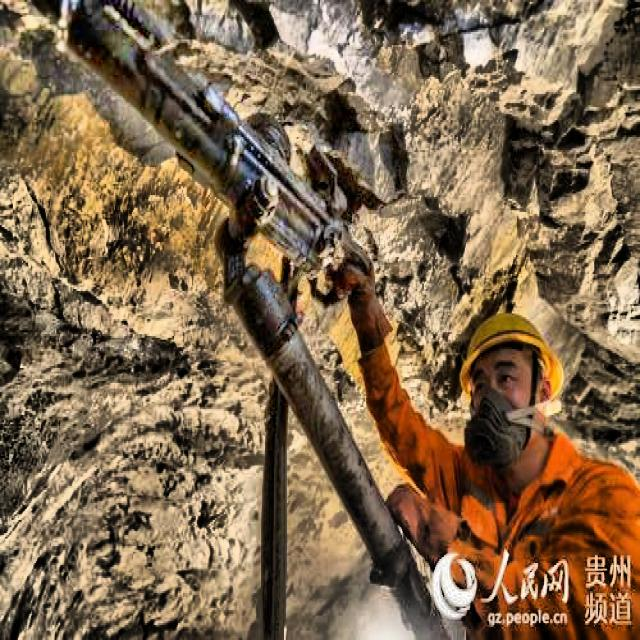helmet: (448, 298, 571, 441)
